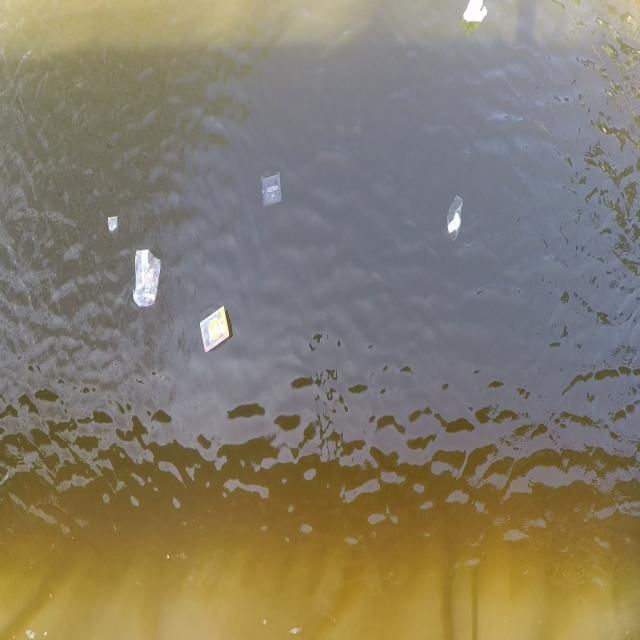Autre plastique: (194, 303, 234, 357)
Sac plastique: (129, 243, 165, 315), (444, 187, 468, 248)
